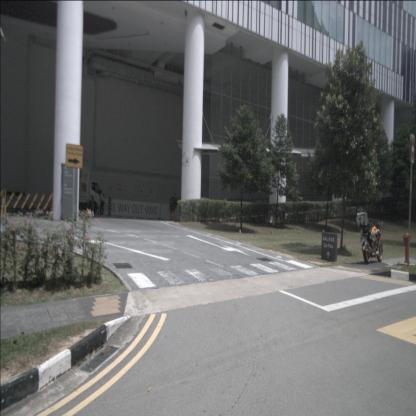human-pedestrian-adult: (99, 189, 106, 216)
vehicle-motorcycle: (356, 212, 384, 264)
vehicle-truck: (62, 166, 102, 216)
